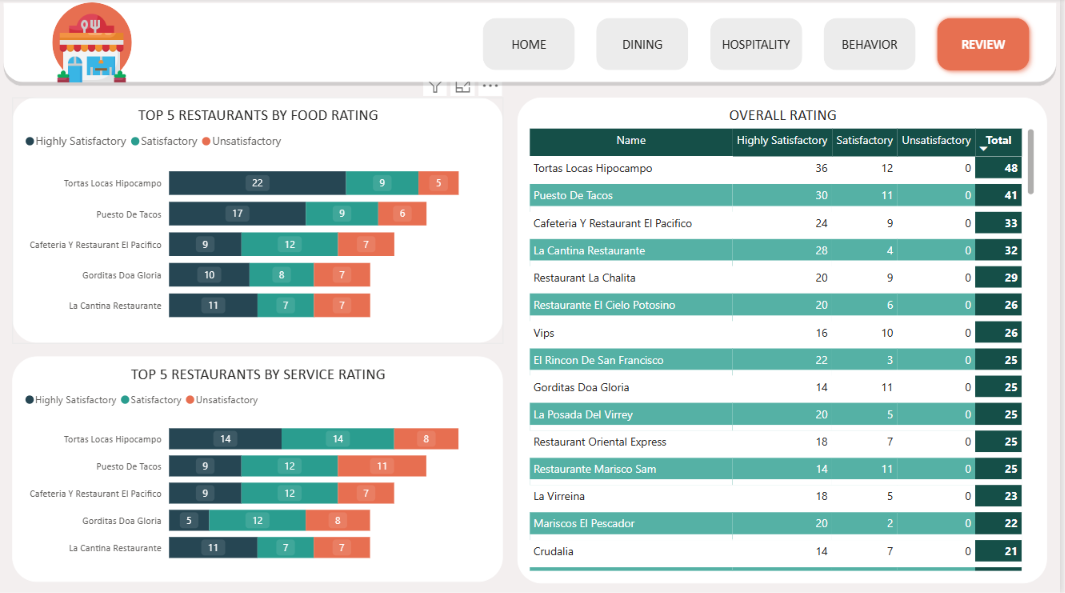

The dashboard page shown, as its layout file describes it:
{"tool":"powerbi","page":{"name":"REVIEW","canvas":[1280,720],"ordinal":4},"visuals":[{"type":"barChart","title":"TOP 5 RESTAURANTS BY SERVICE RATING","fields":{"Category":["restaurants.Name"],"Series":["ratings.Service_Rating_Category"],"Y":["CountNonNull(ratings.Consumer_ID)"]},"box":[16,432,592,272],"z":0},{"type":"barChart","title":"TOP 5 RESTAURANTS BY FOOD RATING","fields":{"Category":["restaurants.Name"],"Series":["ratings.Food_Rating_Category"],"Y":["CountNonNull(ratings.Consumer_ID)"]},"box":[15.9,119.8,592.3,296.2],"z":1000},{"type":"pivotTable","title":"OVERALL RATING","fields":{"Columns":["ratings.Overall_Rating_Category"],"Rows":["restaurants.Name"],"Values":["Sum(ratings.Overall_Rating)"]},"box":[625.3,119.8,639.6,586.3],"z":2000},{"type":"shape","box":[0,0,1280.5,105.9],"z":3000},{"type":"pageNavigator","box":[576,15.5,677.6,79.1],"z":4000},{"type":"shape","box":[63.7,4.4,96.2,96.7],"z":5000},{"type":"image","box":[56,9.3,111.5,101.1],"z":6000}]}

Visuals, with their boxes in screenshot pixels (x1, y1, x2, y2), scaled from the page's 1280x720 canvas onto the 1065x593 screenshot:
"TOP 5 RESTAURANTS BY SERVICE RATING" barChart: <box>13,356,506,580</box>
"TOP 5 RESTAURANTS BY FOOD RATING" barChart: <box>13,99,506,343</box>
"OVERALL RATING" pivotTable: <box>520,99,1052,582</box>
shape: <box>0,0,1064,87</box>
pageNavigator: <box>479,13,1043,78</box>
shape: <box>53,4,133,83</box>
image: <box>47,8,139,91</box>
